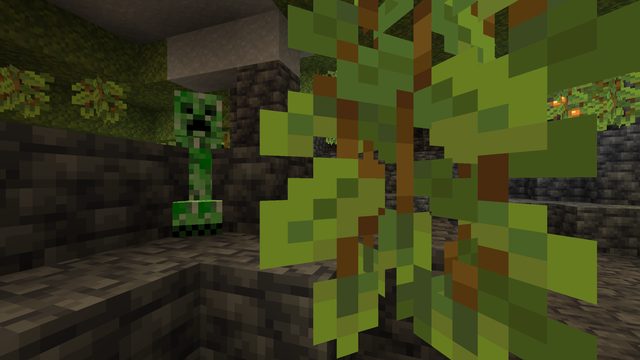creepers: (160, 81, 235, 235)
